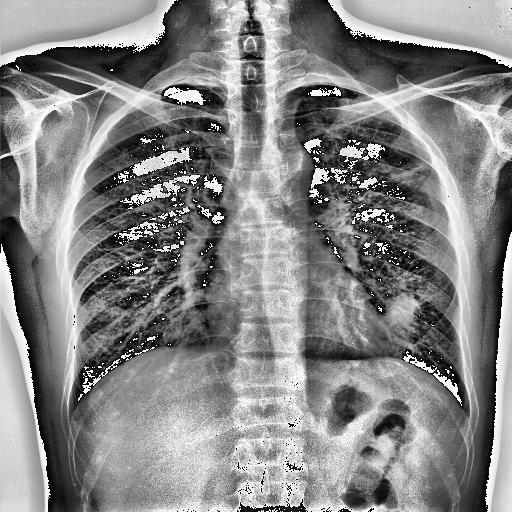13- Pulmonary fibrosis: (386, 286, 439, 326), (384, 288, 418, 324), (382, 158, 428, 180), (384, 160, 422, 182)
8- Nodule-Mass: (384, 288, 418, 324)
9- Other lesion: (388, 296, 416, 324)
